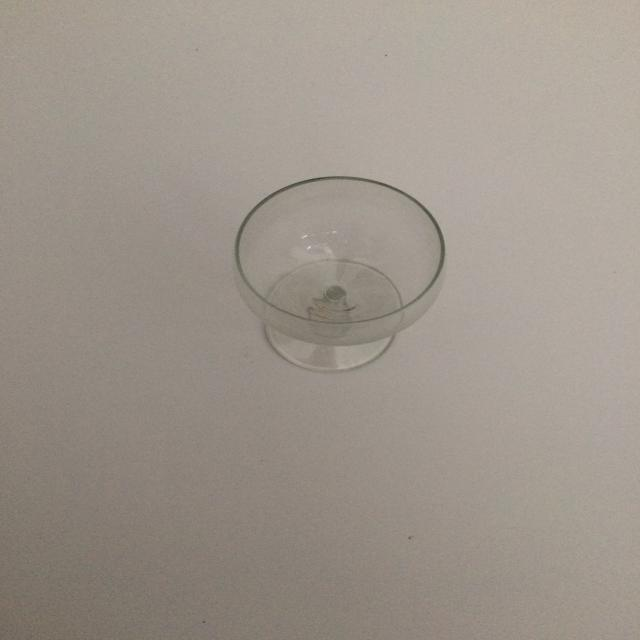glass: (233, 175, 446, 372)
